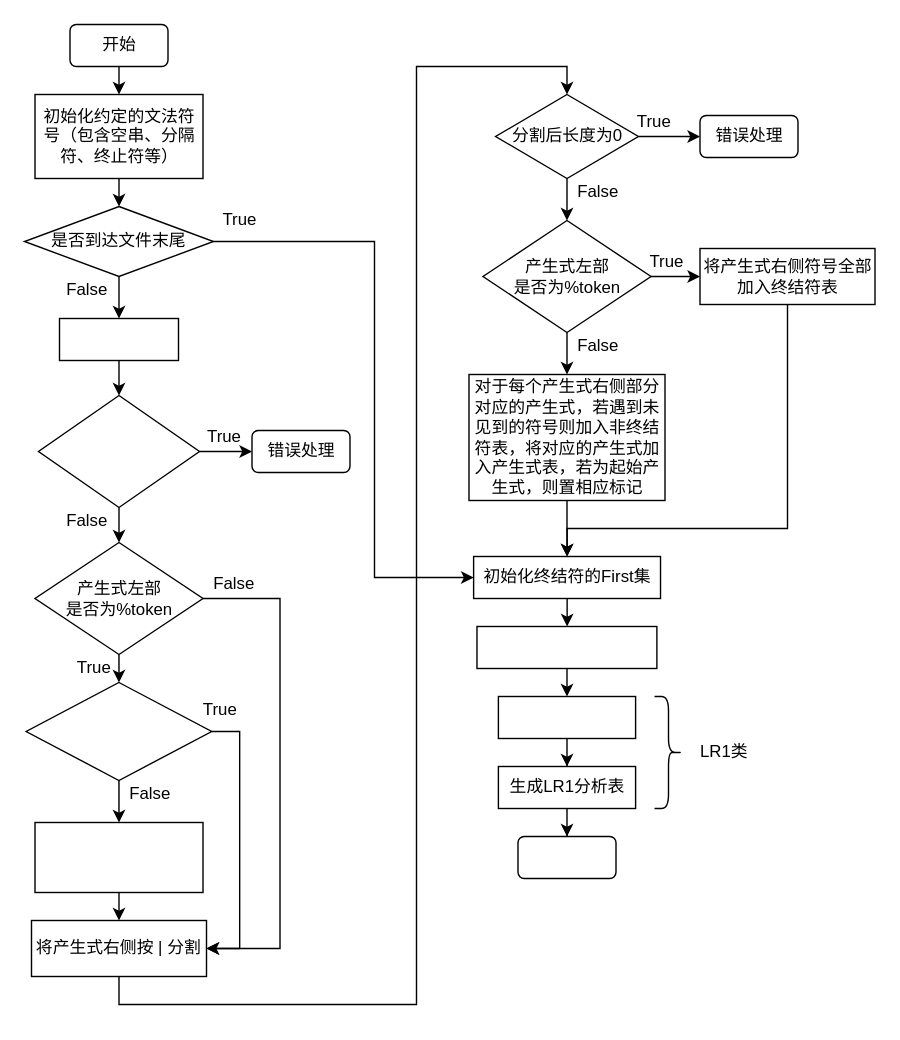
Image size: 900x1040. Some labels were removed from this diagram. The centre of each missing label's shape, as x and y in pixels:
"产生式左部是 否存在于符号表" goes at (x=118, y=730).
"将产生式左部加入符号表、非终结符表" goes at (x=118, y=856).
"求非终结符的First集" goes at (x=566, y=646).
"生成LR1项目集" goes at (x=566, y=716).
"结束" goes at (x=566, y=856).
"行内容是否被 ::=分为两部分" goes at (x=118, y=450).
"读入一行" goes at (x=118, y=338).
